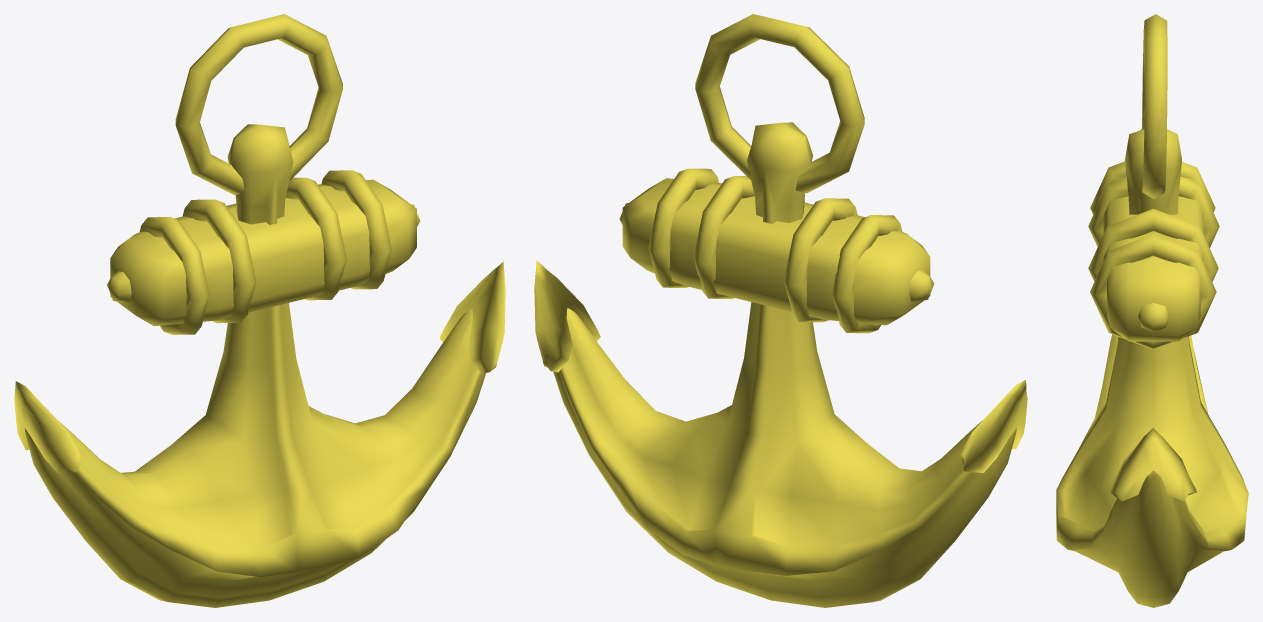
File: Anchor.fbx
The picture shows the model from 3 angles, left to right: view 1: azimuth 30°, elevation 25°; view 2: azimuth 150°, elevation 25°; view 3: azimuth 270°, elevation 25°; orthographic projection. The views are drawn at different scales.
Visible parts, largest first — view 1: Anchor; view 2: Anchor; view 3: Anchor.
Boxes of the visible parts, bbox=[...] form: Anchor: bbox=[14, 14, 505, 607]; Anchor: bbox=[534, 14, 1027, 607]; Anchor: bbox=[1056, 14, 1248, 607].
Size of the model in its own units: 101 by 114 by 35.97.
